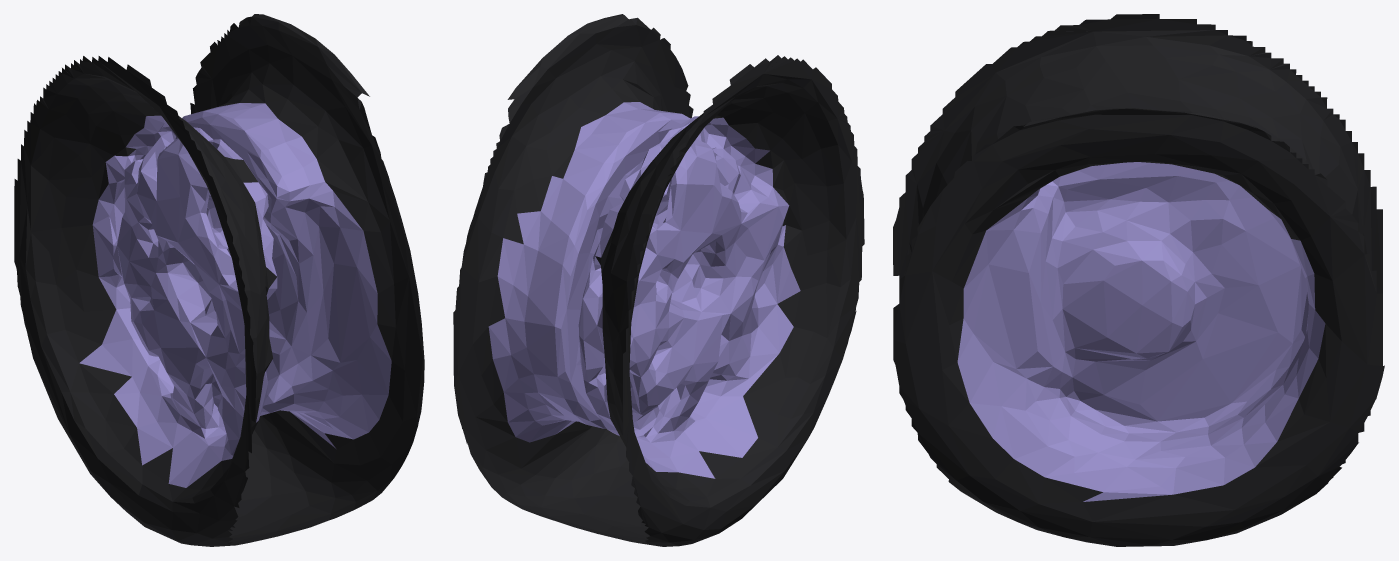
The model's file is scirocco-wheel.glb.
3 views of the same model, side by side, from view 1: azimuth 30°, elevation 25°; view 2: azimuth 150°, elevation 25°; view 3: azimuth 270°, elevation 25° (orthographic).
Parts seen in each view (by area): view 1: wheel; view 2: wheel; view 3: wheel.
Part boxes in pixels (x1,y1,x2,y2): wheel: (14,14,424,546); wheel: (453,14,864,546); wheel: (893,14,1384,546).
Bounding box in the file's own units: 0.268 × 0.6456 × 0.6174.
